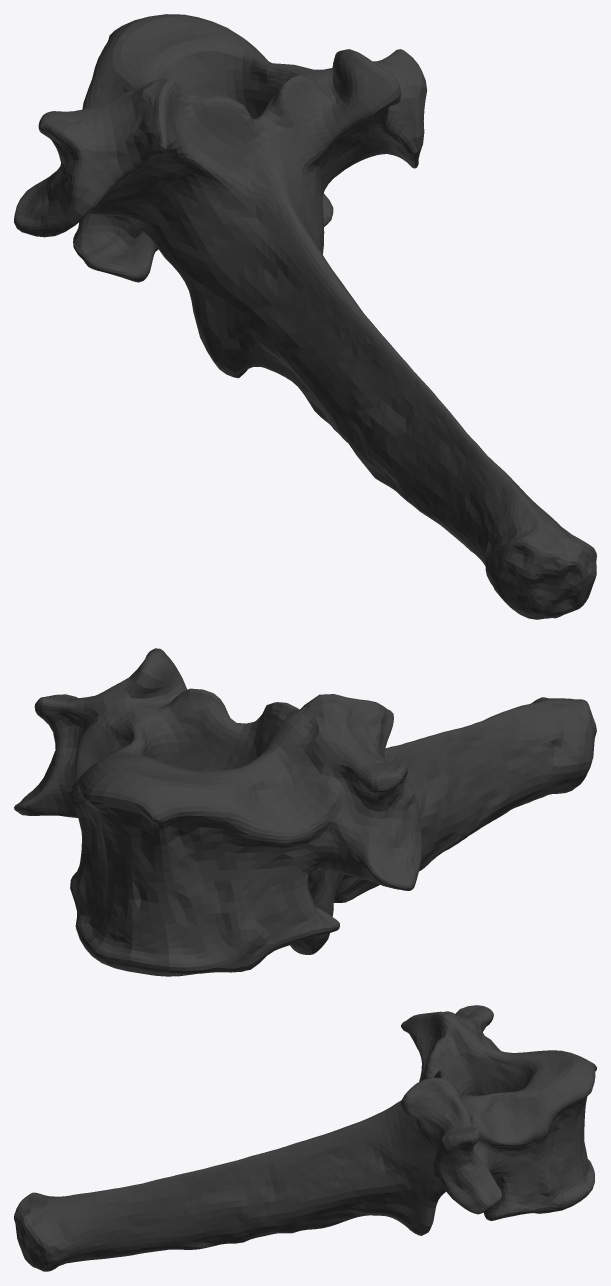
The picture shows the model from 3 angles, top to bottom: view 1: azimuth 30°, elevation 25°; view 2: azimuth 150°, elevation 25°; view 3: azimuth 270°, elevation 25°; orthographic projection. The views are drawn at different scales.
Visible parts, largest first — view 1: t2_low; view 2: t2_low; view 3: t2_low.
Boxes of the visible parts, <box> form: t2_low: <box>14,14,596,619</box>; t2_low: <box>14,648,596,976</box>; t2_low: <box>14,1005,596,1271</box>.
Size of the model in its own units: 42.44 by 34.94 by 81.39.
Materials: 1 (1 with a texture image).
